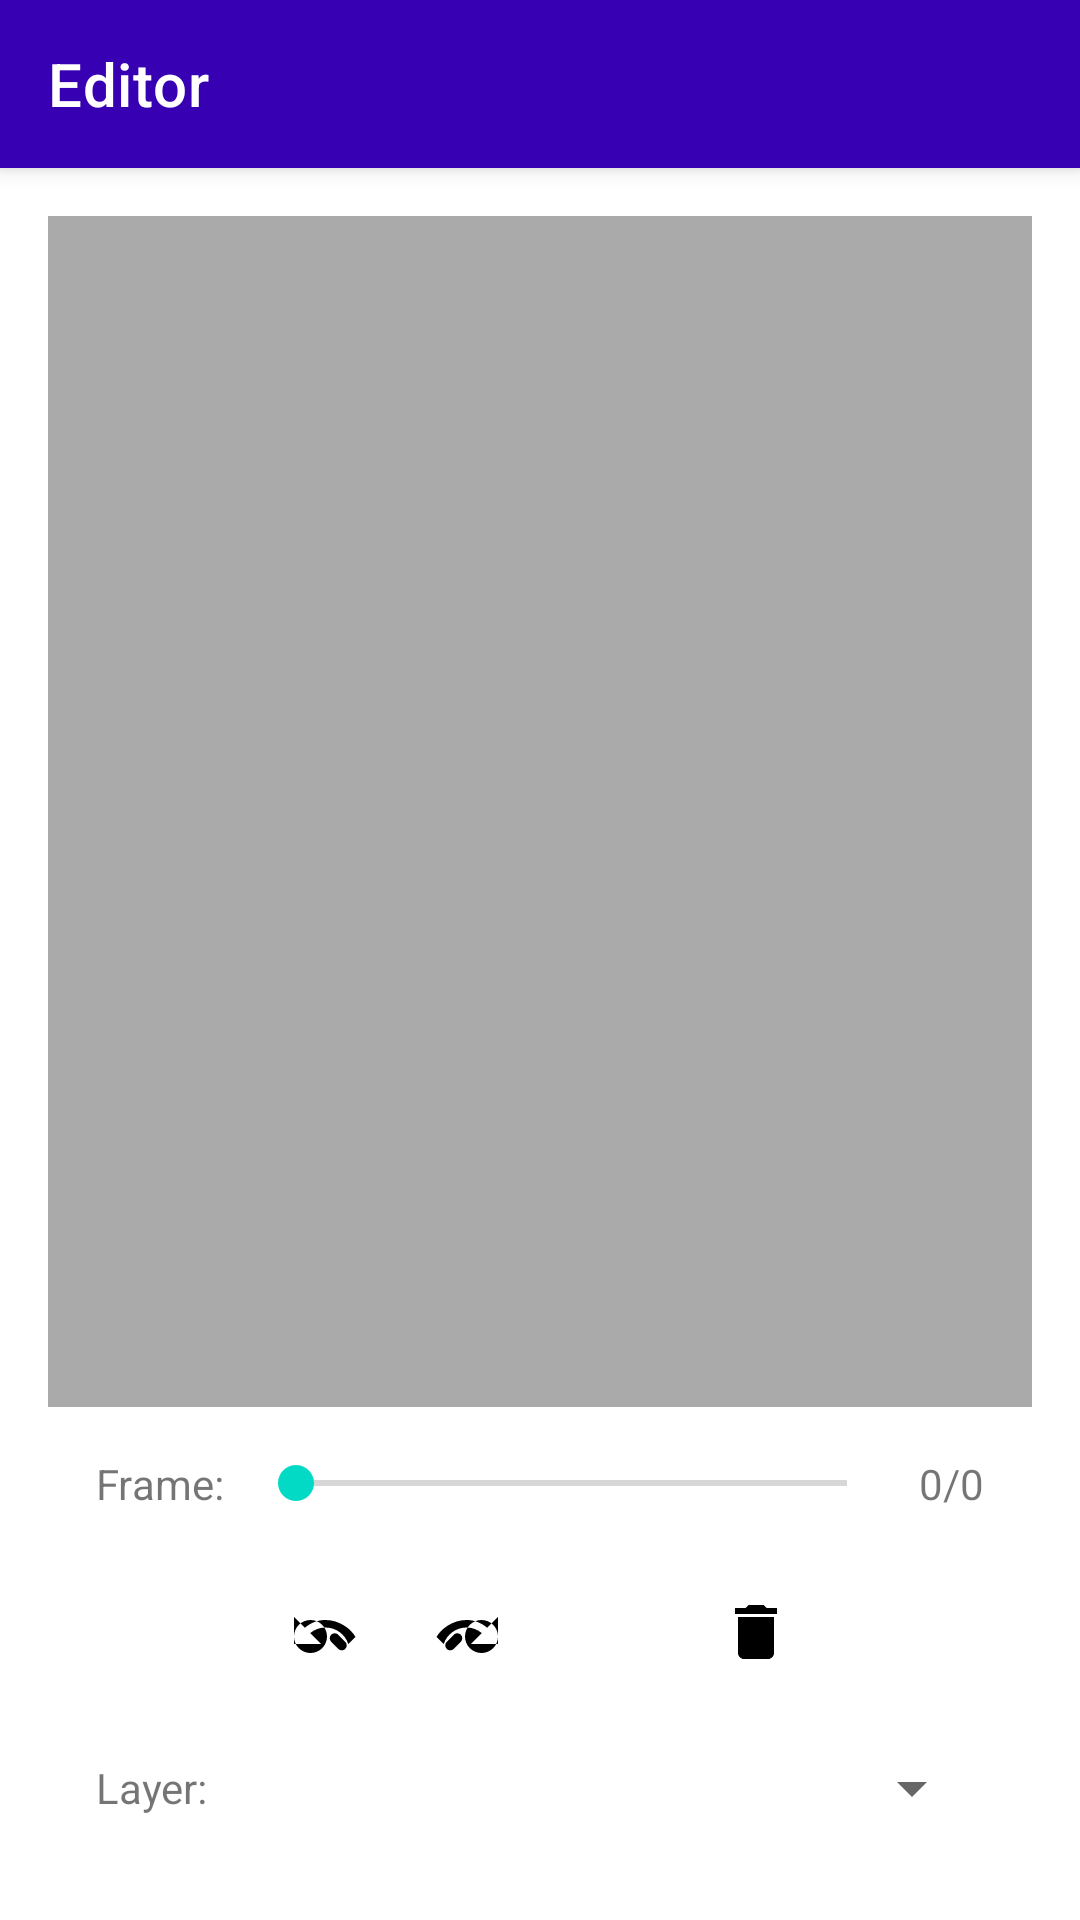

Icon bounding boxes for this 1080 x 1920 phone screenshot, format bbox=(x1, y1, x2, y2):
Delete Layer: bbox=(735, 1605, 777, 1659)
Redo: bbox=(436, 1617, 498, 1653)
Undo: bbox=(294, 1617, 356, 1653)
